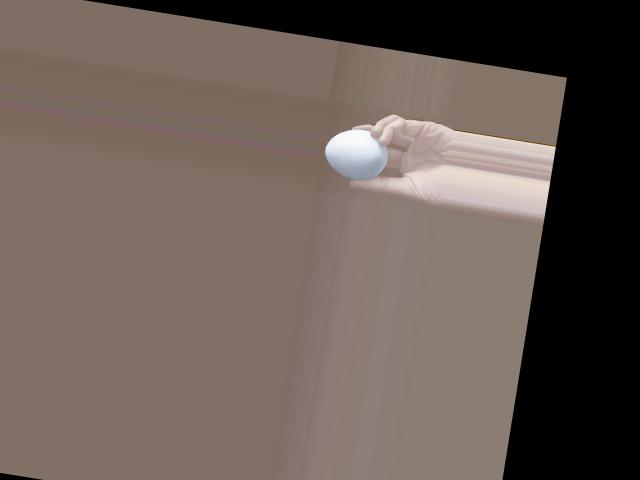egg: (320, 123, 391, 182)
